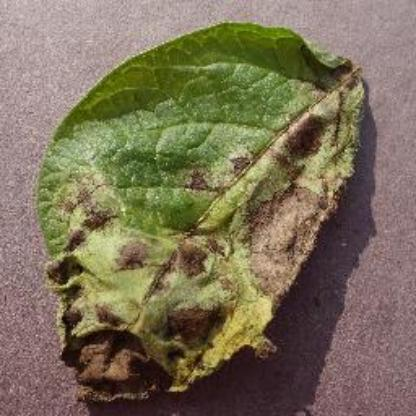Late-Blight: (38, 24, 384, 410)
